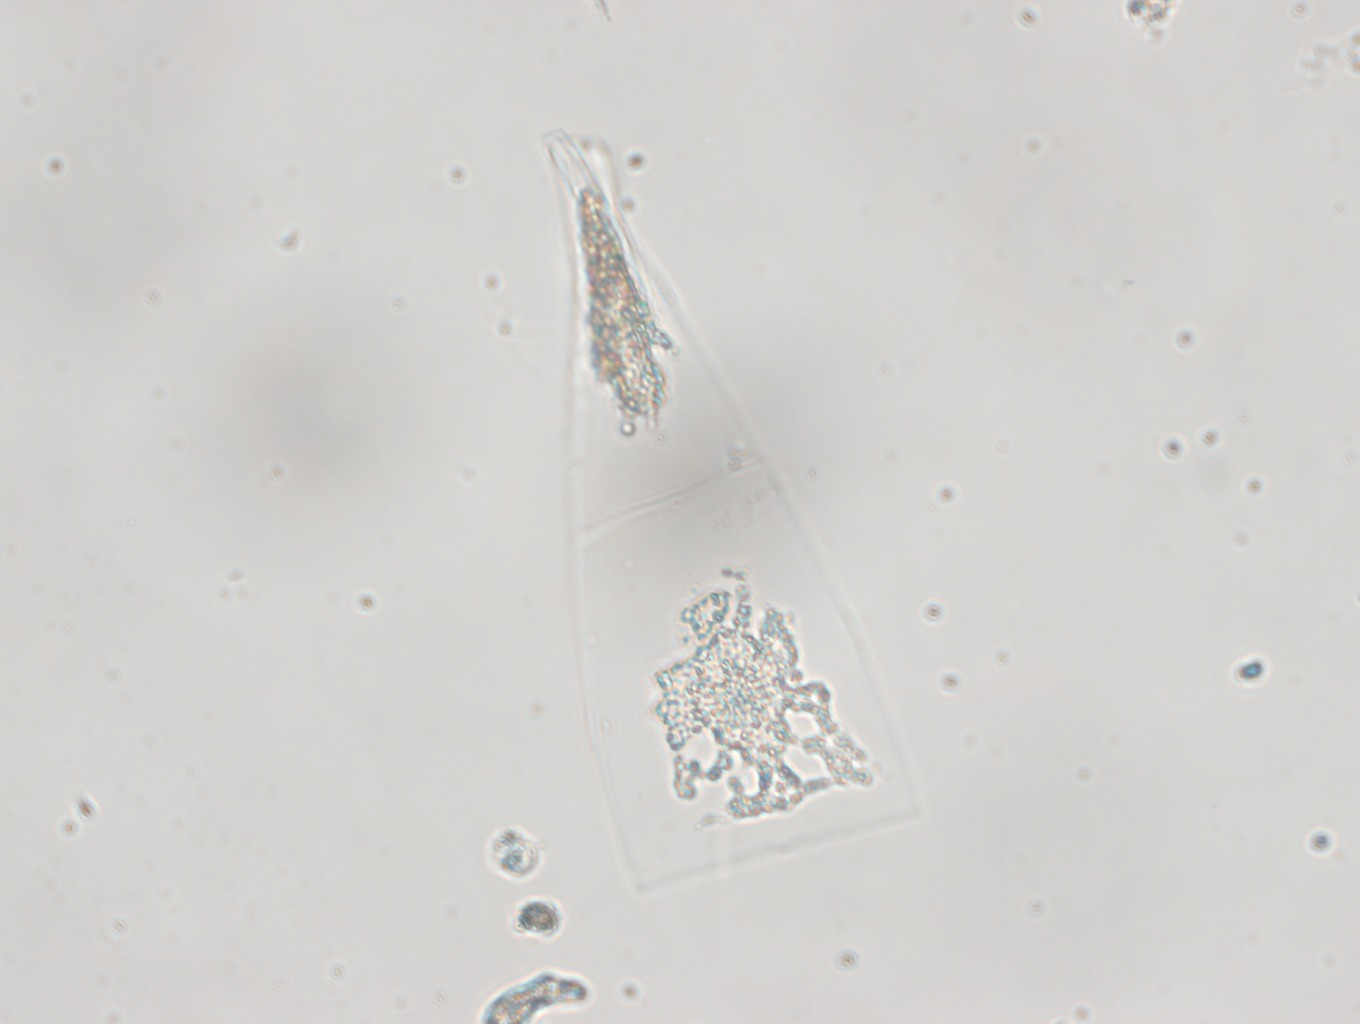helicotheca: (544, 122, 925, 892)
